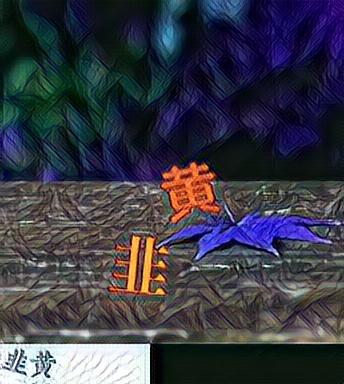BBC6: (159, 158, 222, 224)
BEC2: (108, 231, 171, 297)
